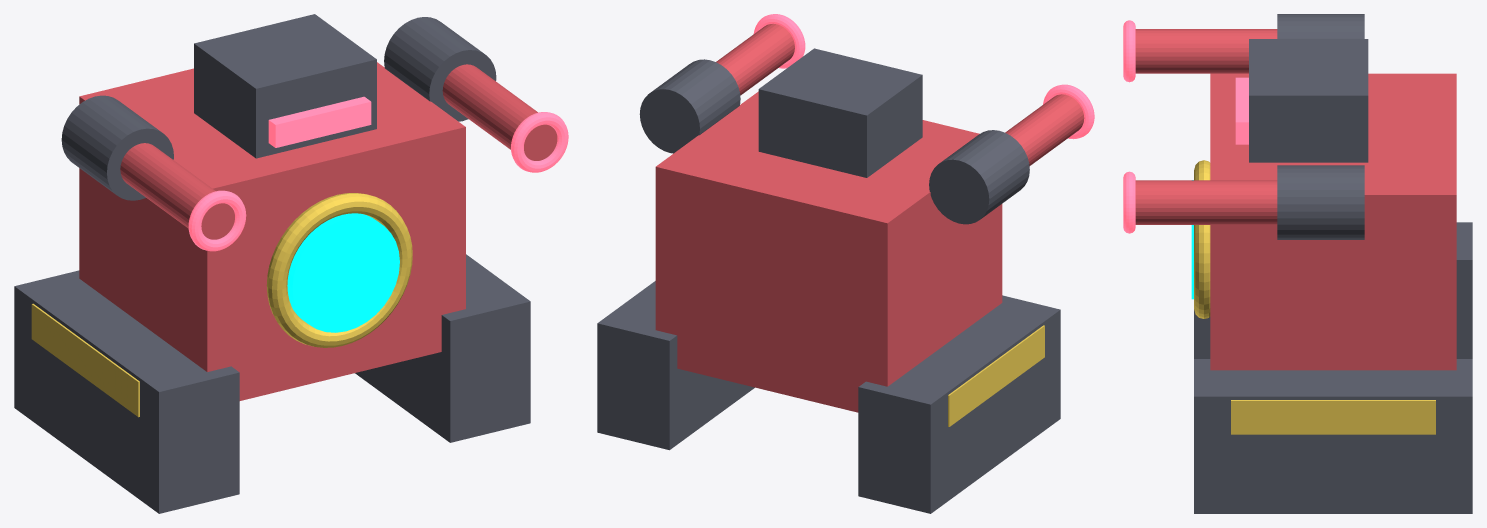
The model's file is enemy-boss.glb.
3 renders of one model, left to right at view 1: azimuth 30°, elevation 25°; view 2: azimuth 150°, elevation 25°; view 3: azimuth 270°, elevation 25°, orthographic. The views are drawn at different scales.
Parts seen in each view (by area): view 1: Cube.004, Cube, Cube.005, Cube.002, Cylinder, Torus, Cylinder.001, Cylinder.003, Cylinder.002, Cylinder.004, Cube.001, Cube.006 (+2 smaller); view 2: Cube.004, Cube, Cube.005, Cube.002, Cylinder.001, Cylinder.003, Cube.001, Cylinder.002, Cylinder.004, Torus.001, Torus.002; view 3: Cube.004, Cube.002, Cube.005, Cube.003, Cylinder.003, Cylinder.004, Cylinder.002, Cube, Cylinder.001, Torus, Cube.006, Torus.001 (+1 smaller).
Part boxes in pixels (bbox=[...]): Cube.004: bbox=[79, 62, 465, 400]; Cube: bbox=[14, 270, 239, 513]; Cube.005: bbox=[194, 14, 376, 158]; Cube.002: bbox=[355, 254, 530, 442]; Cylinder: bbox=[287, 213, 399, 332]; Torus: bbox=[266, 193, 412, 347]; Cylinder.001: bbox=[61, 95, 173, 200]; Cylinder.003: bbox=[384, 17, 496, 121]; Cylinder.002: bbox=[120, 143, 234, 239]; Cylinder.004: bbox=[442, 64, 557, 160]; Cube.001: bbox=[31, 303, 139, 417]; Cube.006: bbox=[268, 96, 371, 147]; Cube.004: bbox=[655, 91, 1002, 412]; Cube: bbox=[858, 295, 1060, 513]; Cube.005: bbox=[758, 48, 922, 177]; Cube.002: bbox=[597, 281, 754, 450]; Cylinder.001: bbox=[929, 130, 1029, 224]; Cylinder.003: bbox=[639, 59, 740, 153]; Cube.001: bbox=[948, 325, 1044, 426]; Cylinder.002: bbox=[1005, 94, 1084, 165]; Cylinder.004: bbox=[716, 23, 794, 95]; Torus.001: bbox=[1043, 84, 1094, 139]; Torus.002: bbox=[753, 14, 805, 68]; Cube.004: bbox=[1210, 73, 1456, 370]; Cube.002: bbox=[1194, 359, 1472, 513]; Cube.005: bbox=[1249, 39, 1368, 162]; Cube.003: bbox=[1231, 400, 1435, 434]; Cylinder.003: bbox=[1277, 165, 1364, 239]; Cylinder.004: bbox=[1135, 180, 1277, 224]; Cylinder.002: bbox=[1135, 29, 1277, 73]; Cube: bbox=[1194, 222, 1472, 358]; Cylinder.001: bbox=[1277, 14, 1364, 38]; Torus: bbox=[1194, 160, 1210, 318]; Cube.006: bbox=[1235, 77, 1248, 144]; Torus.001: bbox=[1123, 20, 1135, 82].
Bounding box in the file's own units: 1.74 × 1.59 × 1.4.
